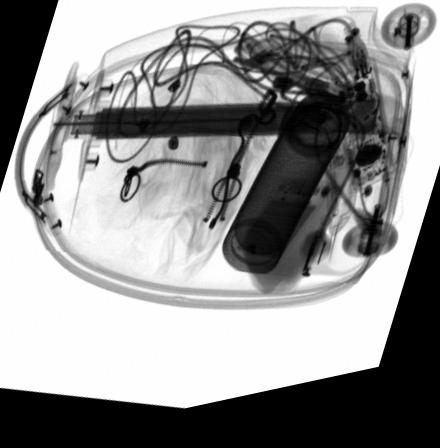Powerbank: (231, 189, 330, 281)
